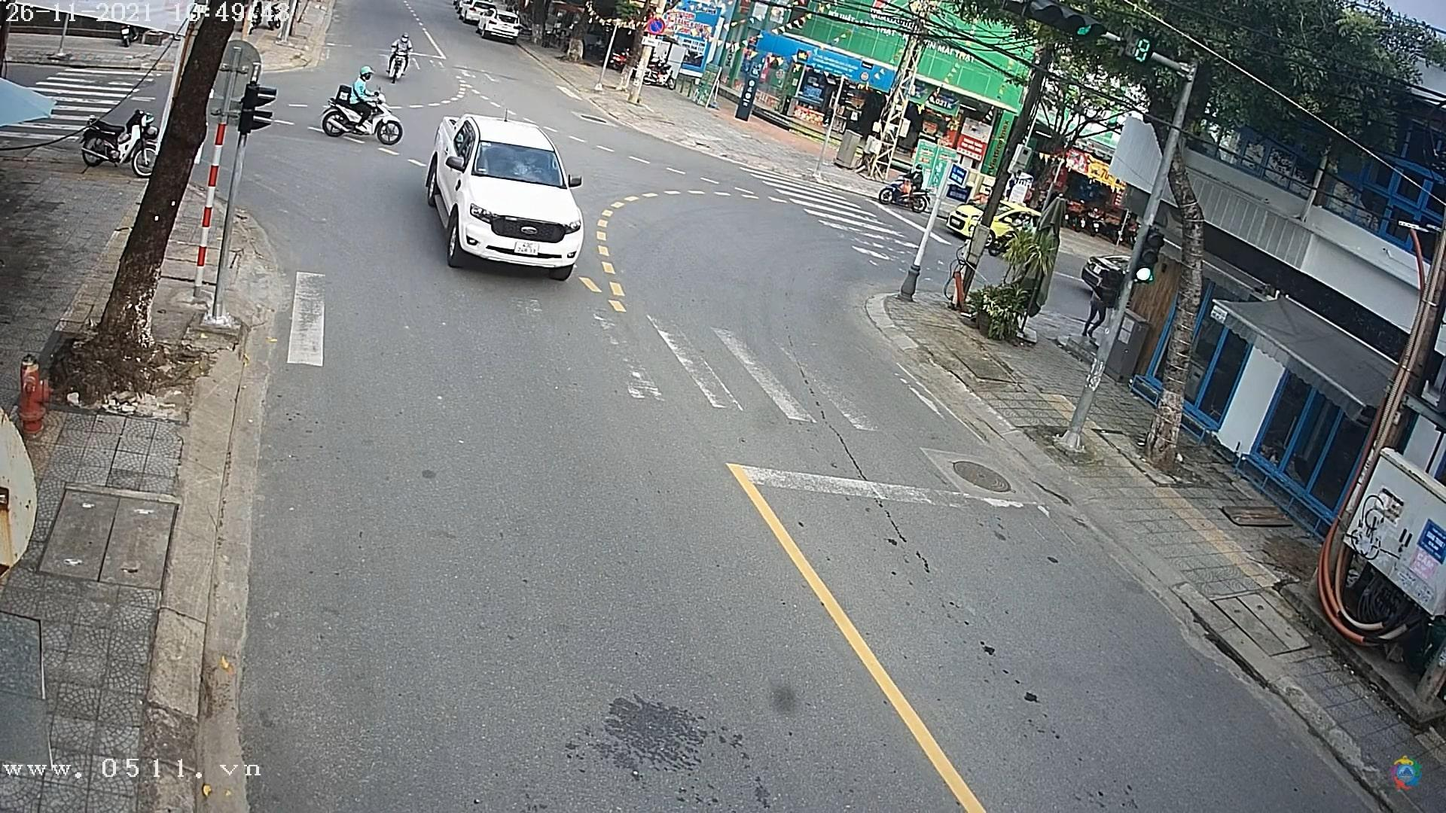car: (426, 120, 587, 274)
motorbike: (317, 89, 403, 146), (876, 164, 927, 214), (389, 36, 412, 78)
